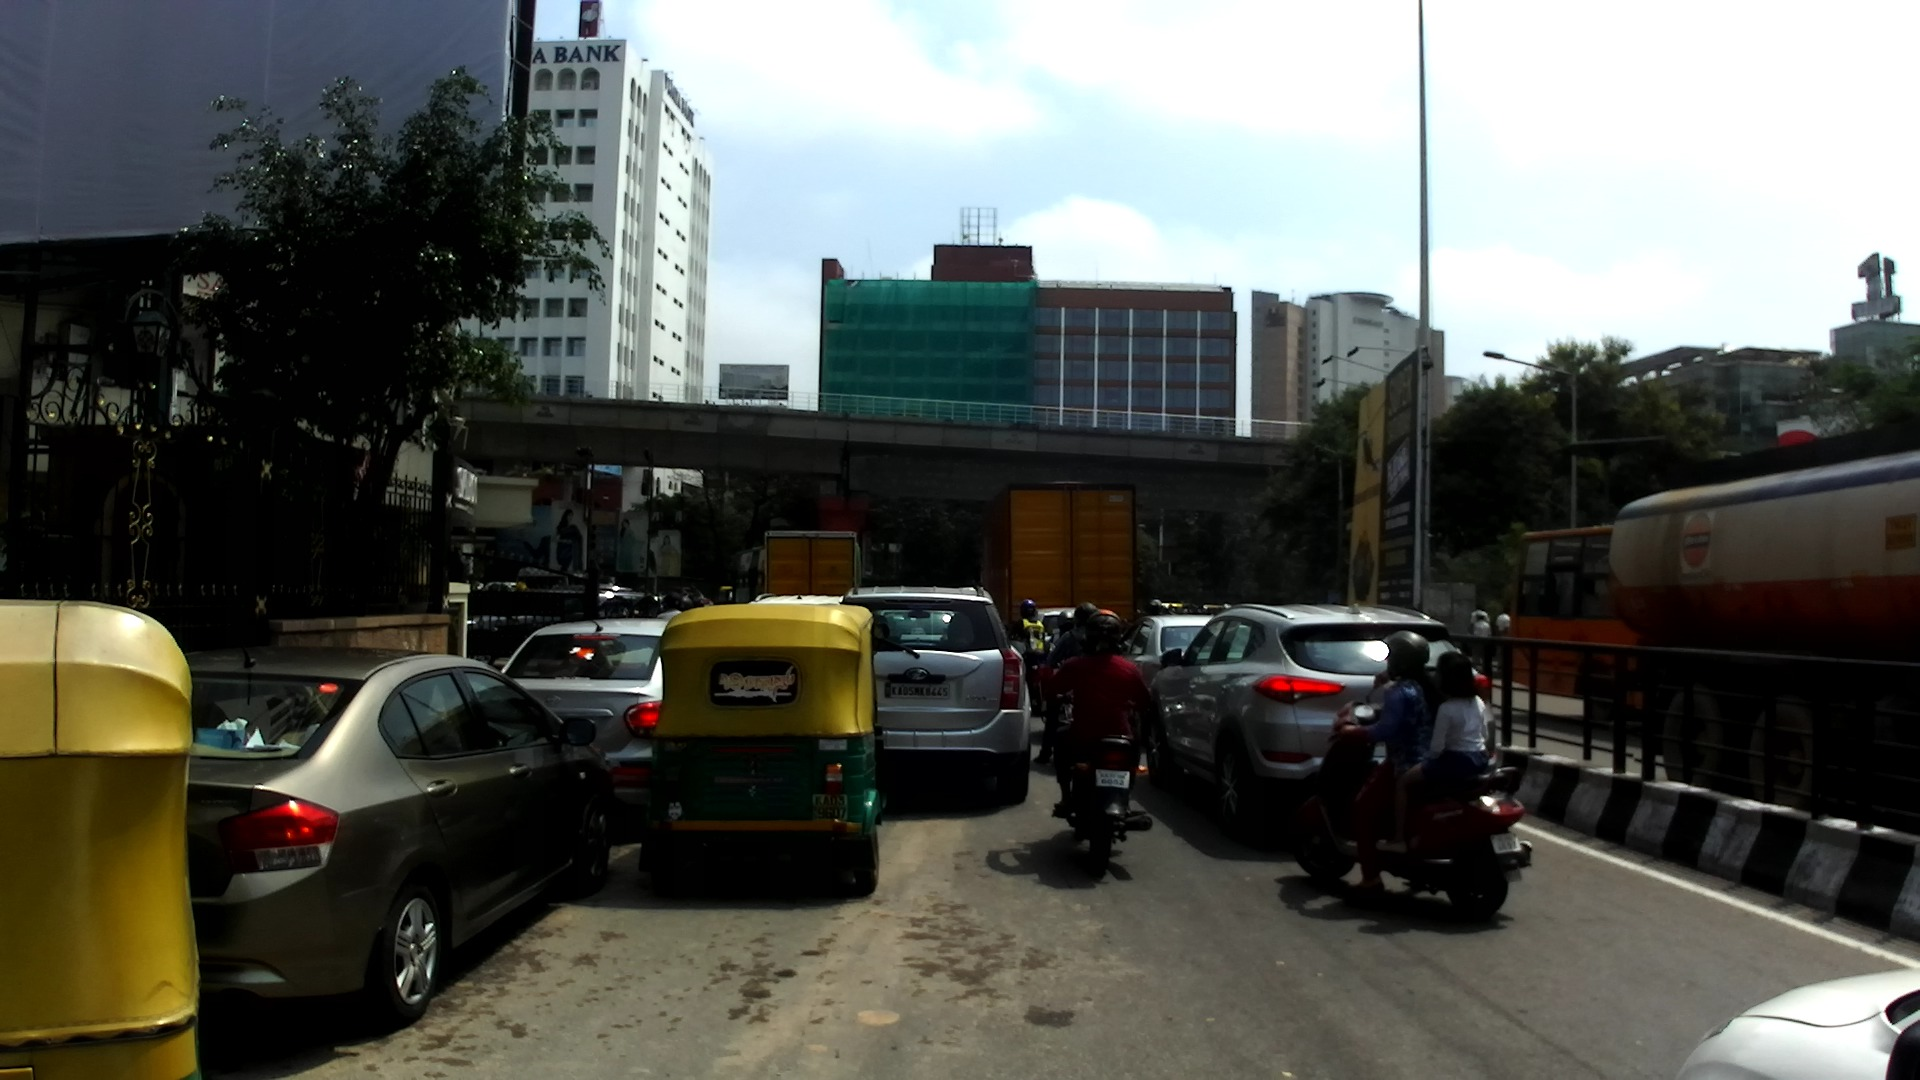autorickshaw: (1, 599, 202, 1078), (638, 605, 892, 898), (718, 586, 732, 604)
bus: (1511, 525, 1648, 726), (735, 547, 767, 603)
car: (175, 639, 615, 1023), (1144, 604, 1491, 841), (845, 585, 1032, 801), (498, 618, 664, 845), (1676, 969, 1920, 1080), (1115, 613, 1218, 690), (1033, 605, 1100, 642), (750, 594, 845, 605), (482, 583, 530, 590)
motorcycle: (1287, 669, 1534, 920), (1050, 695, 1154, 876), (1022, 640, 1045, 713), (1043, 694, 1075, 732)
person: (1472, 613, 1492, 669), (1498, 604, 1508, 670), (1468, 602, 1491, 631)
rider: (1333, 628, 1437, 904), (1047, 608, 1157, 820), (1377, 649, 1489, 855), (1036, 602, 1098, 766), (1004, 597, 1051, 665), (1049, 613, 1076, 641), (656, 594, 681, 620), (679, 597, 694, 614), (699, 598, 716, 610), (1148, 600, 1163, 614)
traffic light: (641, 467, 652, 495)
truck: (1613, 429, 1920, 833), (980, 480, 1138, 622), (762, 532, 866, 597)
vehicle fallback: (559, 583, 660, 621), (1156, 597, 1203, 614), (465, 581, 484, 594), (1201, 605, 1225, 612)
